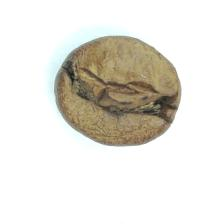NG: (65, 40, 174, 141)
